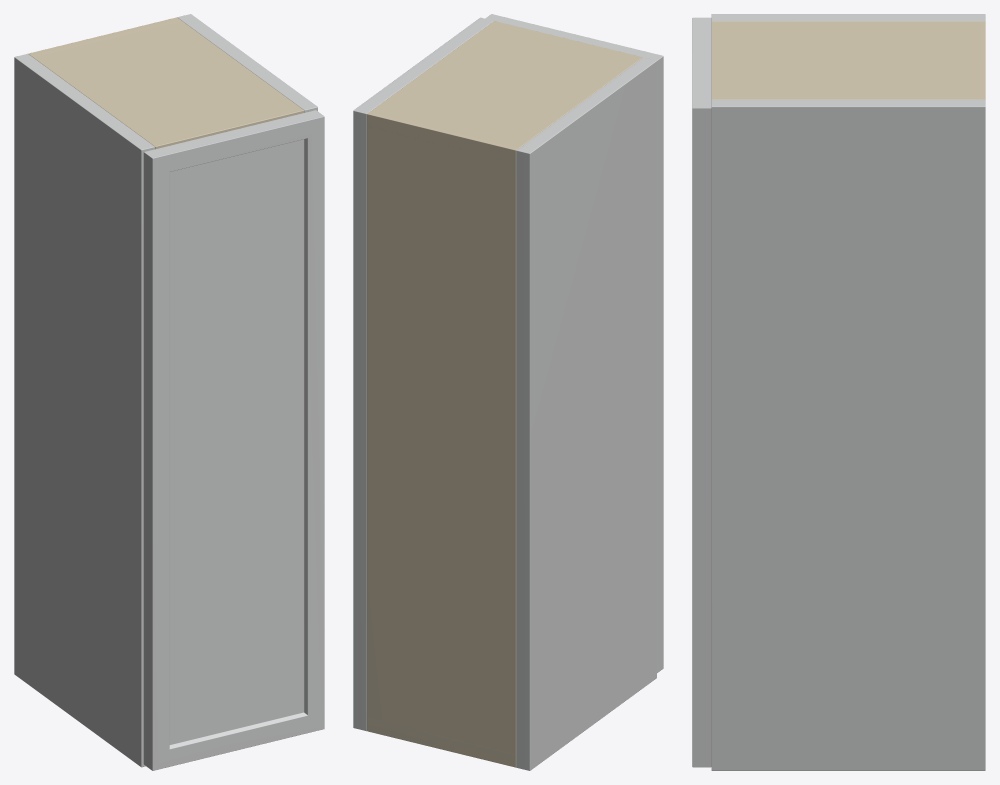
File: oppein-ply-ssw-w0930.glb
The picture shows the model from 3 angles, left to right: view 1: azimuth 30°, elevation 25°; view 2: azimuth 150°, elevation 25°; view 3: azimuth 270°, elevation 25°; orthographic projection. The views are drawn at different scales.
Visible parts, largest first — view 1: Door, Cabinet side, Cabinet top, Cabinet side.001, Cabinet back; view 2: Cabinet back, Cabinet side, Cabinet top, Cabinet side.001, Door, Cabinet bottom; view 3: Cabinet side.001, Cabinet top, Door, Cabinet side, Cabinet back.
Boxes of the visible parts, x1,y1,x2,y2 form: Door: (143, 110, 324, 770); Cabinet side: (14, 53, 154, 767); Cabinet top: (28, 17, 304, 149); Cabinet side.001: (177, 14, 317, 112); Cabinet back: (29, 17, 181, 56); Cabinet back: (367, 110, 520, 767); Cabinet side: (516, 57, 656, 770); Cabinet top: (367, 21, 642, 163); Cabinet side.001: (353, 17, 493, 731); Door: (485, 14, 663, 672); Cabinet bottom: (367, 718, 516, 767); Cabinet side.001: (711, 99, 985, 770); Cabinet top: (711, 21, 985, 99); Door: (692, 17, 711, 767); Cabinet side: (711, 14, 985, 21); Cabinet back: (974, 21, 984, 99).
Bounding box in the file's own units: 0.2286 × 0.762 × 0.3048.
